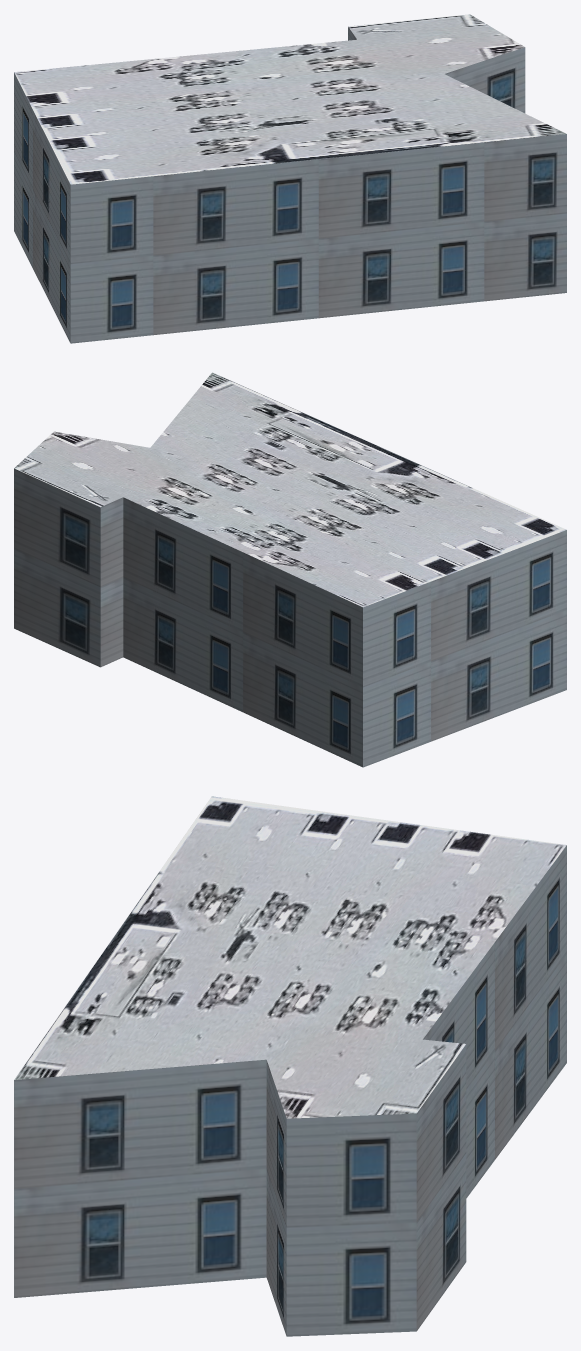
File: ResTex__528.fbx
The picture shows the model from 3 angles, top to bottom: view 1: azimuth 30°, elevation 25°; view 2: azimuth 150°, elevation 25°; view 3: azimuth 270°, elevation 25°; orthographic projection. The views are drawn at different scales.
Visible parts, largest first — view 1: CityEngineMaterial_18_m, CityEngineMaterial_4_m; view 2: CityEngineMaterial_18_m, CityEngineMaterial_4_m; view 3: CityEngineMaterial_18_m, CityEngineMaterial_4_m.
Part boxes in pixels (x1=…): CityEngineMaterial_18_m: x1=14, y1=27, x2=566, y2=343; CityEngineMaterial_4_m: x1=14, y1=14, x2=566, y2=184; CityEngineMaterial_18_m: x1=14, y1=468, x2=566, y2=767; CityEngineMaterial_4_m: x1=14, y1=372, x2=566, y2=607; CityEngineMaterial_18_m: x1=14, y1=845, x2=566, y2=1336; CityEngineMaterial_4_m: x1=14, y1=796, x2=566, y2=1118.
Bounding box in the file's own units: 19.04 × 6 × 13.8.
2 materials, 2 textured.
